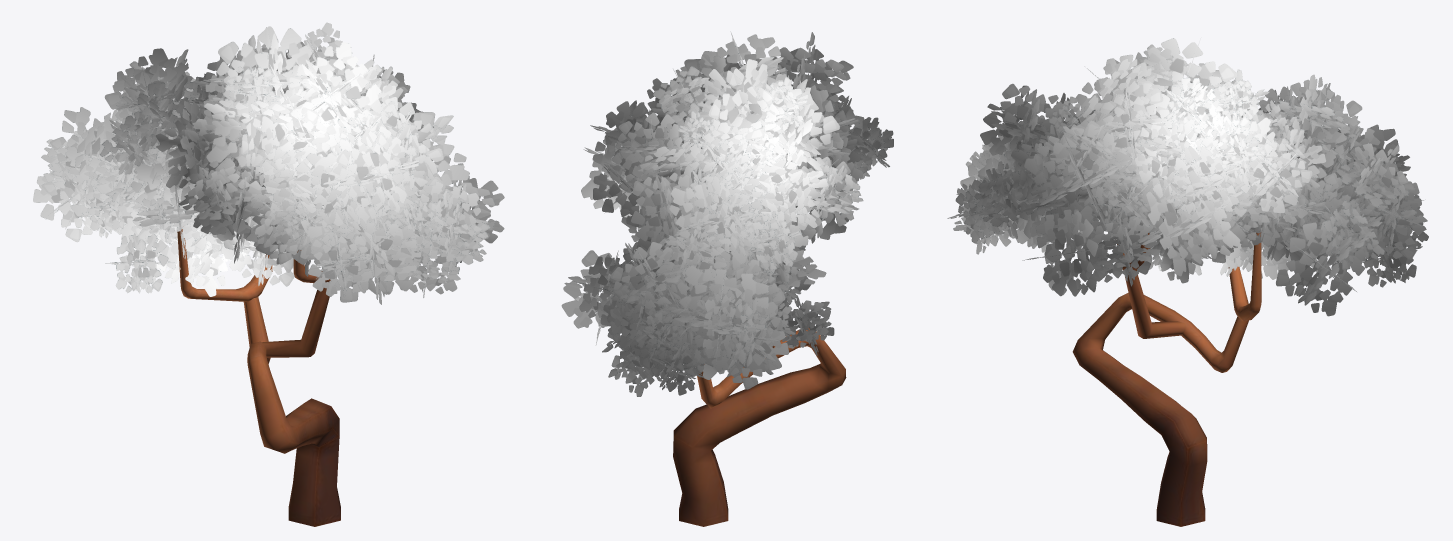
File: STSwiggly2.glb
The picture shows the model from 3 angles, left to right: view 1: azimuth 30°, elevation 25°; view 2: azimuth 150°, elevation 25°; view 3: azimuth 270°, elevation 25°; orthographic projection. The views are drawn at different scales.
Parts seen in each view (by area): view 1: Leaf.002; view 2: Leaf.002; view 3: Leaf.002.
Part boxes in pixels (box(x1,y1,x2,y2)): Leaf.002: box(33, 22, 504, 526); Leaf.002: box(561, 31, 893, 526); Leaf.002: box(947, 38, 1428, 526).
Bounding box in the file's own units: 4.52 × 6.58 × 6.34.
Materials: 2 (2 with a texture image).
